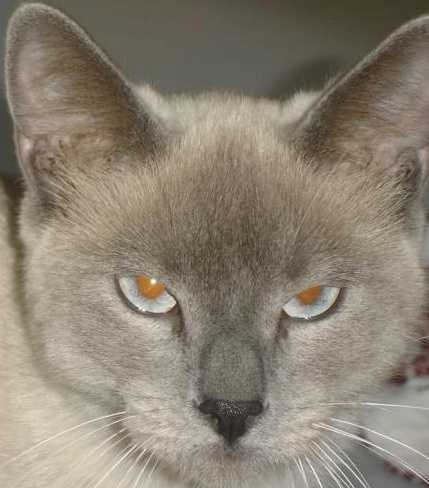Cat: (6, 4, 428, 487)
